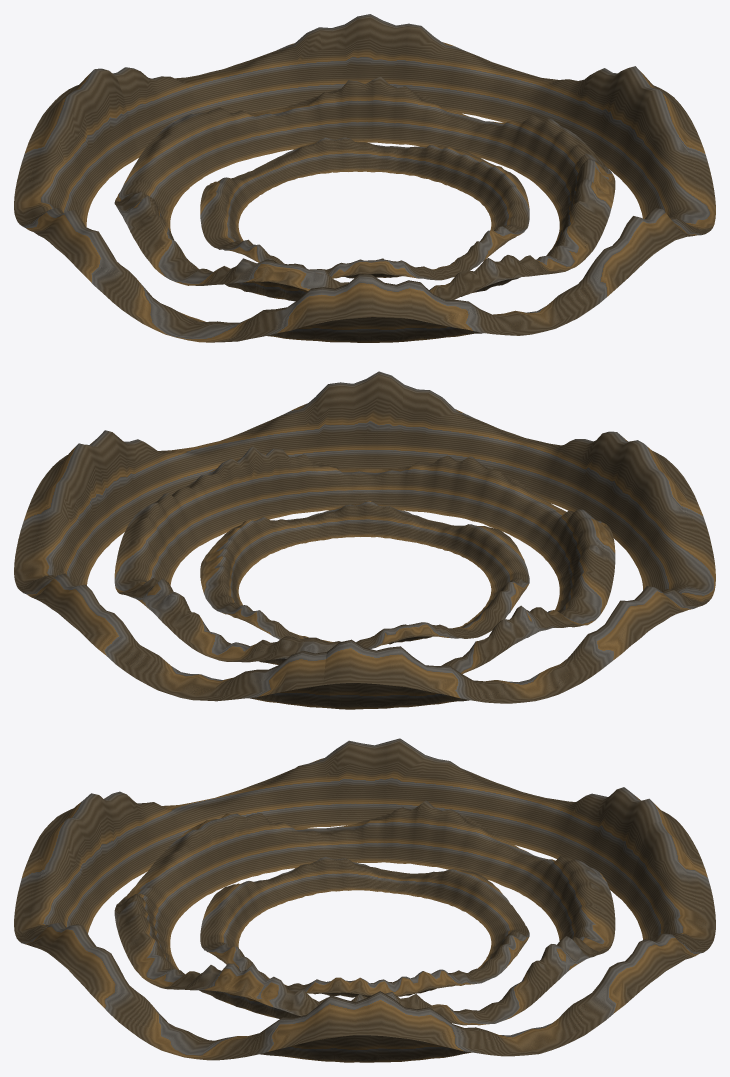
File: mountain-terrain.glb
3 renders of one model, top to bottom at view 1: azimuth 30°, elevation 25°; view 2: azimuth 150°, elevation 25°; view 3: azimuth 270°, elevation 25°, orthographic.
Parts seen in each view (by area): view 1: mountain_terrain_far, mountain_terrain_mid, mountain_terrain_near; view 2: mountain_terrain_far, mountain_terrain_mid, mountain_terrain_near; view 3: mountain_terrain_far, mountain_terrain_mid, mountain_terrain_near.
Boxes of the visible parts, bbox=[...] form: mountain_terrain_far: bbox=[14, 14, 715, 342]; mountain_terrain_mid: bbox=[114, 76, 615, 301]; mountain_terrain_near: bbox=[200, 137, 529, 280]; mountain_terrain_far: bbox=[14, 371, 715, 709]; mountain_terrain_mid: bbox=[114, 446, 615, 673]; mountain_terrain_near: bbox=[200, 500, 529, 648]; mountain_terrain_far: bbox=[14, 738, 715, 1062]; mountain_terrain_mid: bbox=[114, 800, 615, 1025]; mountain_terrain_near: bbox=[200, 857, 529, 997].
Bounding box in the file's own units: 1640 × 224 × 1640.
1 material, 1 textured.
